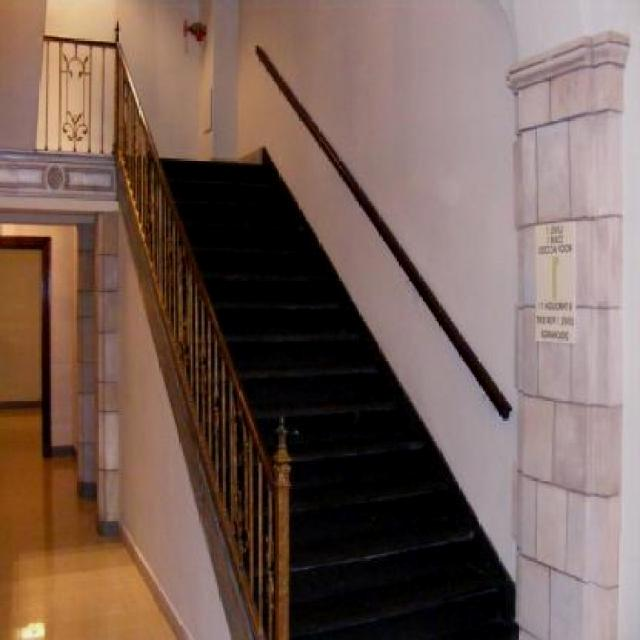stair: (131, 146, 520, 640)
